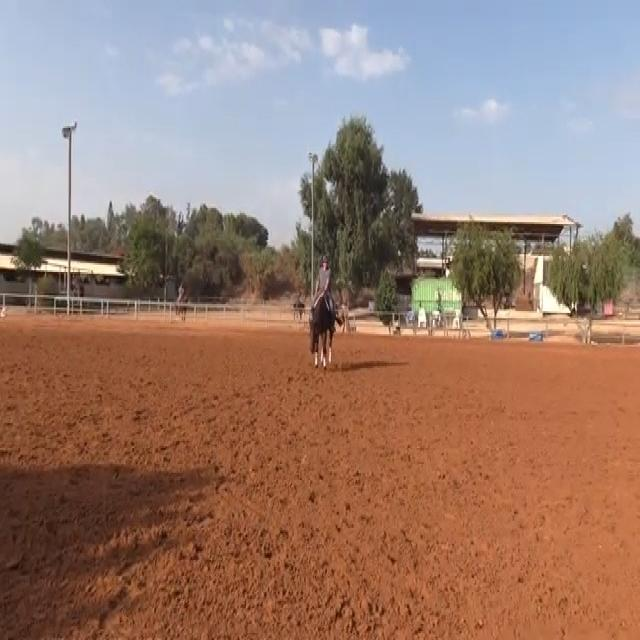horse: (306, 292, 345, 369)
